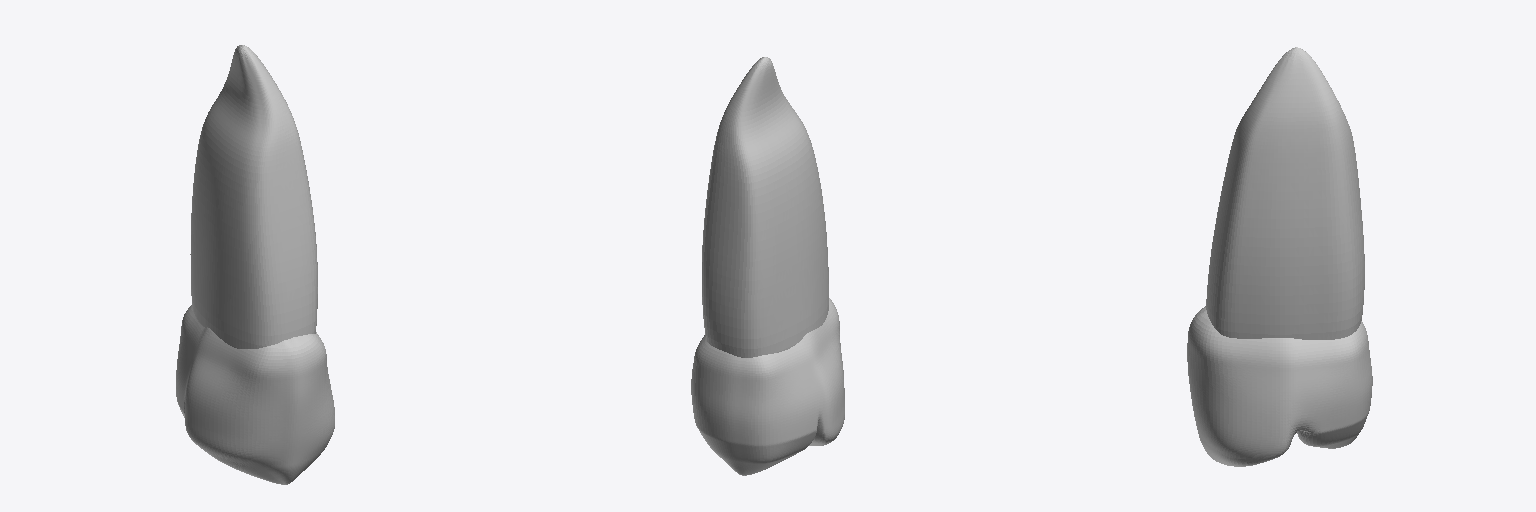
The model's file is modelo.obj.
3 views of the same model, side by side, from view 1: azimuth 30°, elevation 25°; view 2: azimuth 150°, elevation 25°; view 3: azimuth 270°, elevation 25° (orthographic).
Visible parts, largest first — view 1: Cylinder_Cylinder.002, Cylinder.001; view 2: Cylinder_Cylinder.002, Cylinder.001; view 3: Cylinder_Cylinder.002, Cylinder.001.
Part boxes in pixels (x1,y1,x2,y2): Cylinder_Cylinder.002: (190, 45, 317, 348); Cylinder.001: (176, 305, 334, 484); Cylinder_Cylinder.002: (702, 57, 828, 357); Cylinder.001: (691, 298, 844, 475); Cylinder_Cylinder.002: (1206, 47, 1364, 339); Cylinder.001: (1187, 306, 1372, 466).
Size of the model in its own units: 1.73 by 5.13 by 2.09.